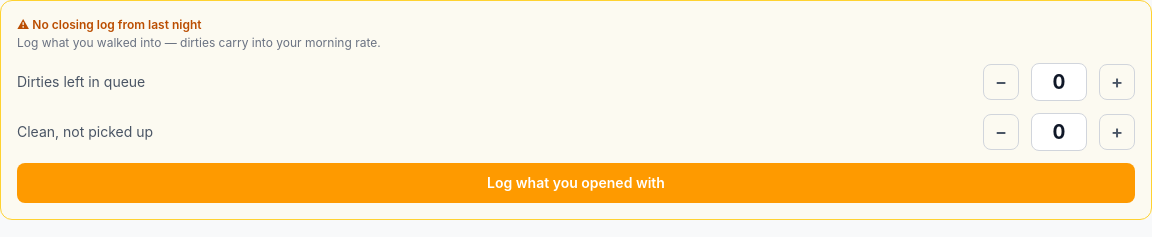
Test case: OpeningLotCard — the carry-over is typeable › ⚠️ refuses non-digits rather than showing NaN
This screenshot has width=1152, height=237.
Replace the text in the field named "Dirties left in queue" with "4x2" at point(1059, 82), box [1031,63,1087,101]
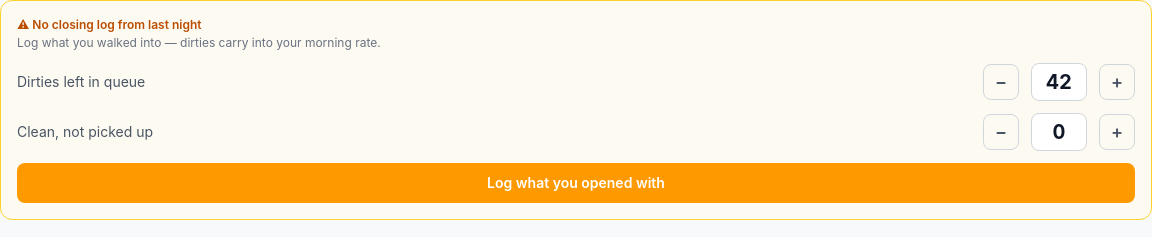
Expected: the field named "Dirties left in queue" holds "42", [1031,63,1087,101]
